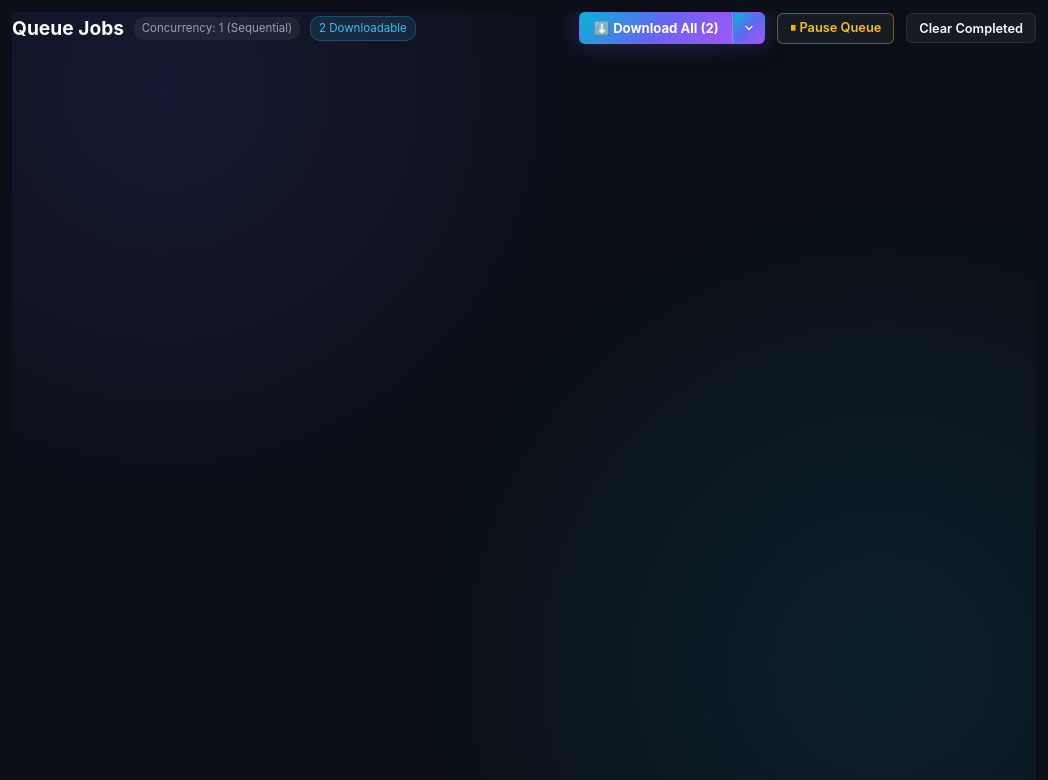
Test case: QueueControls Dropdown Suite › switches mode to ZIP when "Download as ZIP" is selected
Open dropdown
Click the button named "Choose download format" at [749, 28], box top-left (733, 12), bottom-right (765, 44)
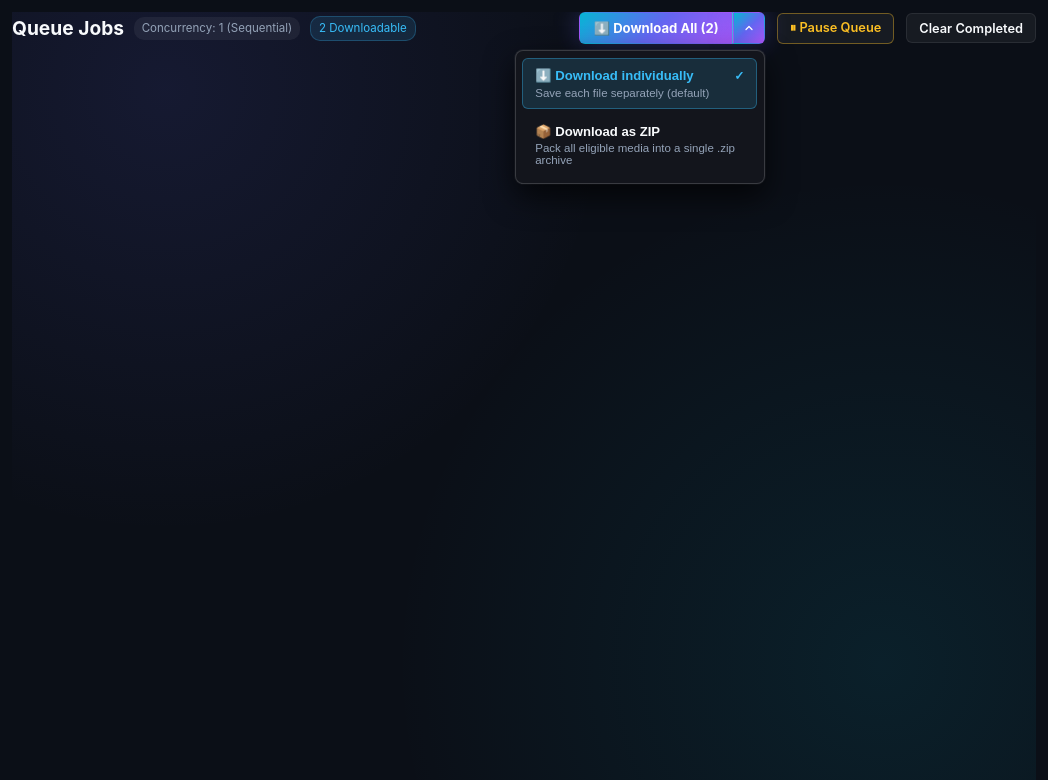
Select ZIP mode
Click the text "📦 Download as ZIP" at [598, 131], box top-left (535, 124), bottom-right (660, 139)
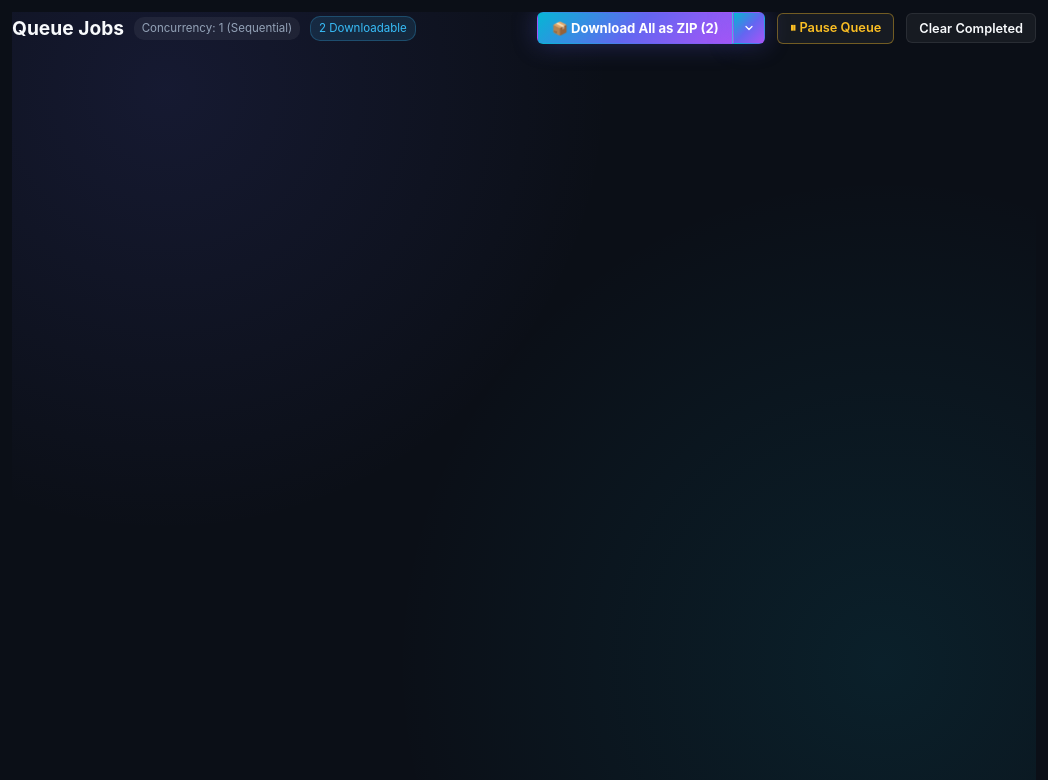
Check: the menu is gone
Check: the button "📦 Download All as ZIP (2)" is shown, box top-left (537, 12), bottom-right (733, 44)
